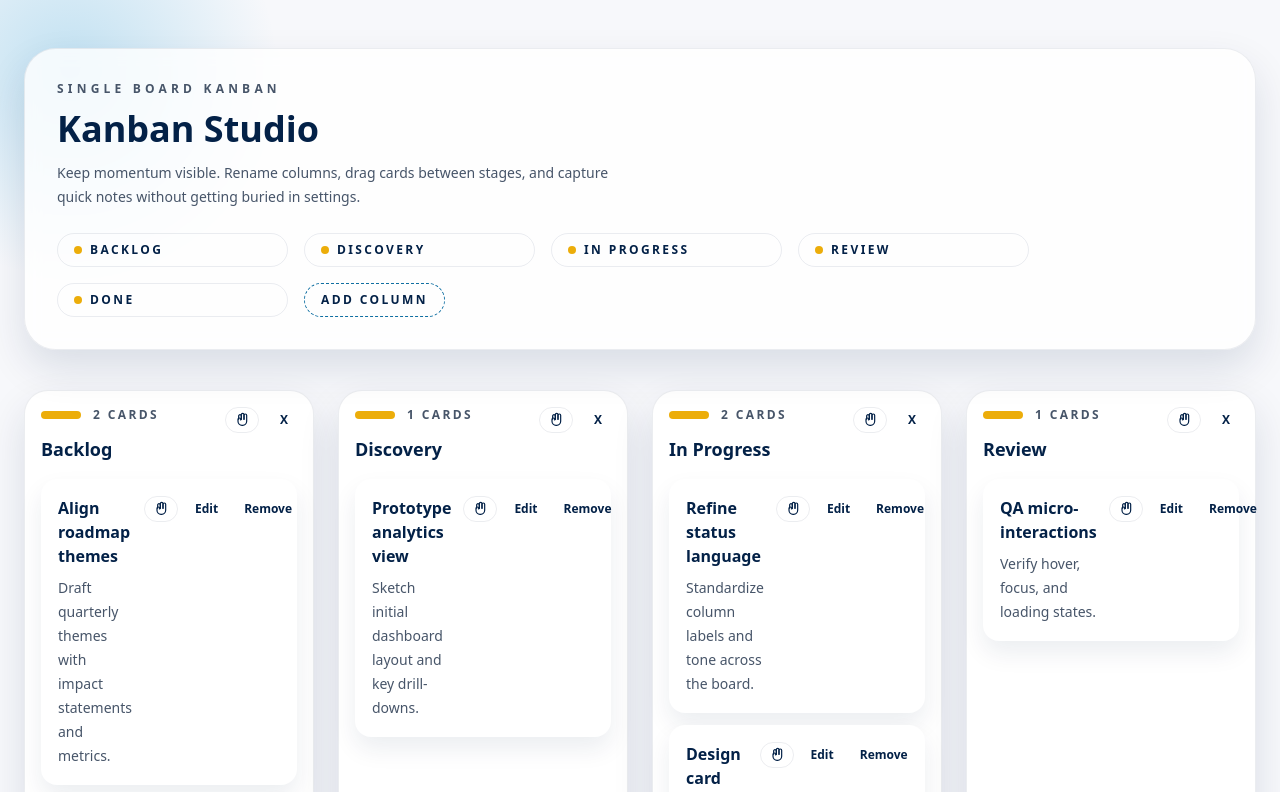
it: KanbanBoard › reverts unsaved rename changes on outside click
Replace the text in the 1st field named "Column title" with "Temporary" at (127,449), box [41,435,213,463]
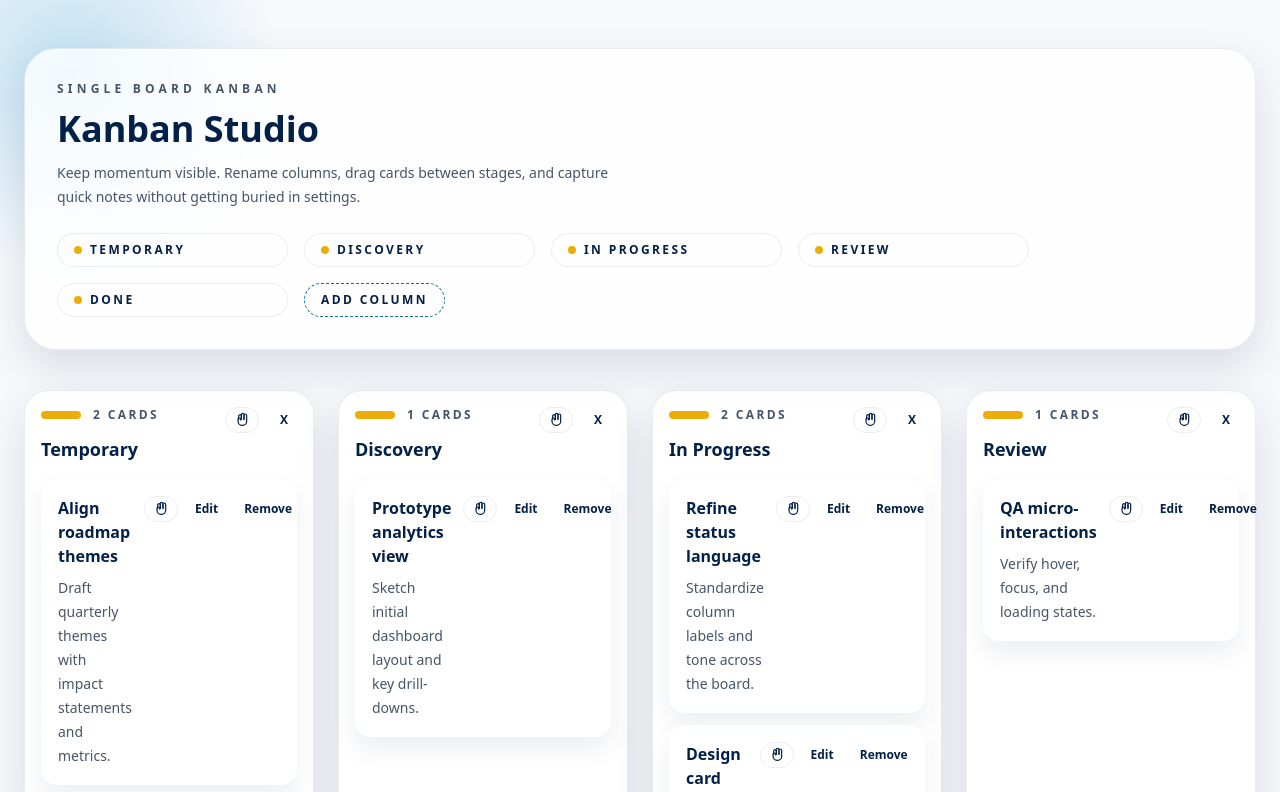
Click the button with test id "board-add-column".
click(374, 300)  # box [304,283,445,317]
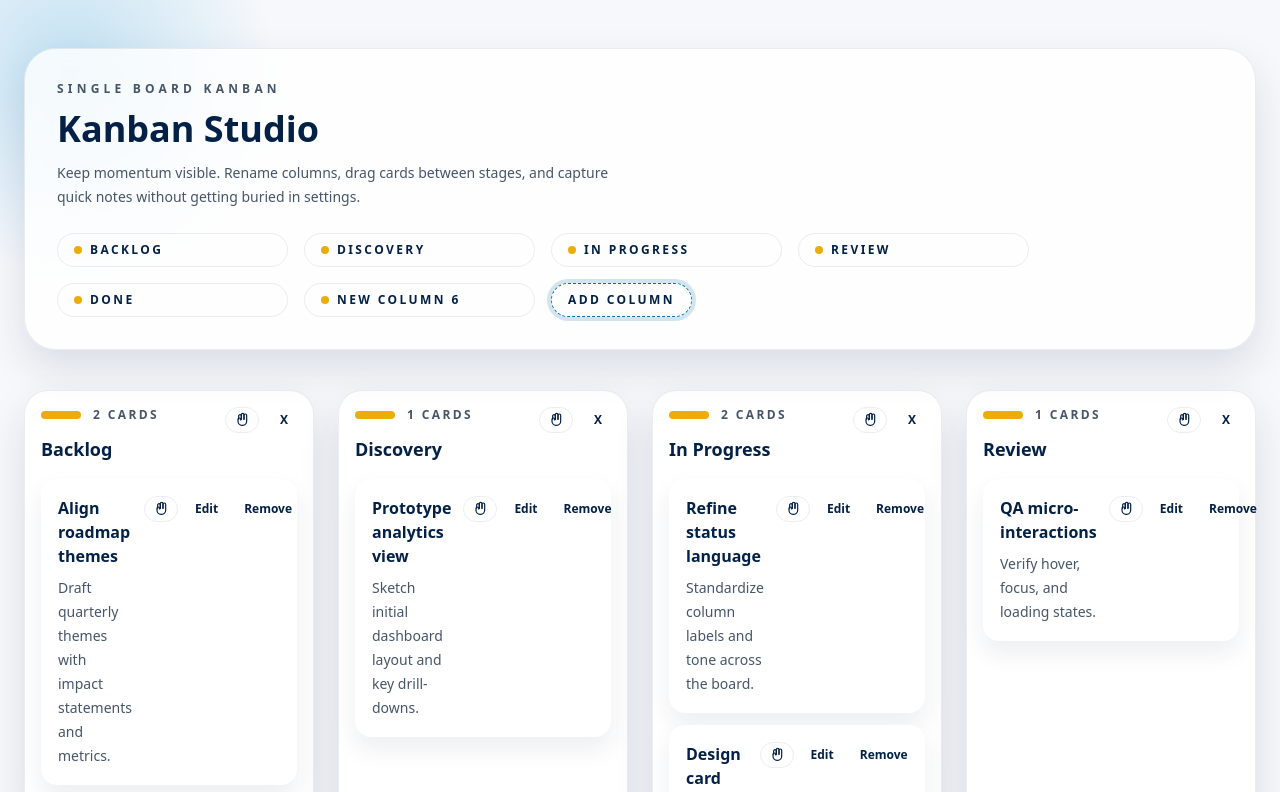
Result: the 1st field named "Column title" holds "Backlog" at [41,435,213,463]
Result: the field with test id "dashboard-column-pill-input-col-backlog" holds "Backlog" at [90,242,271,258]
